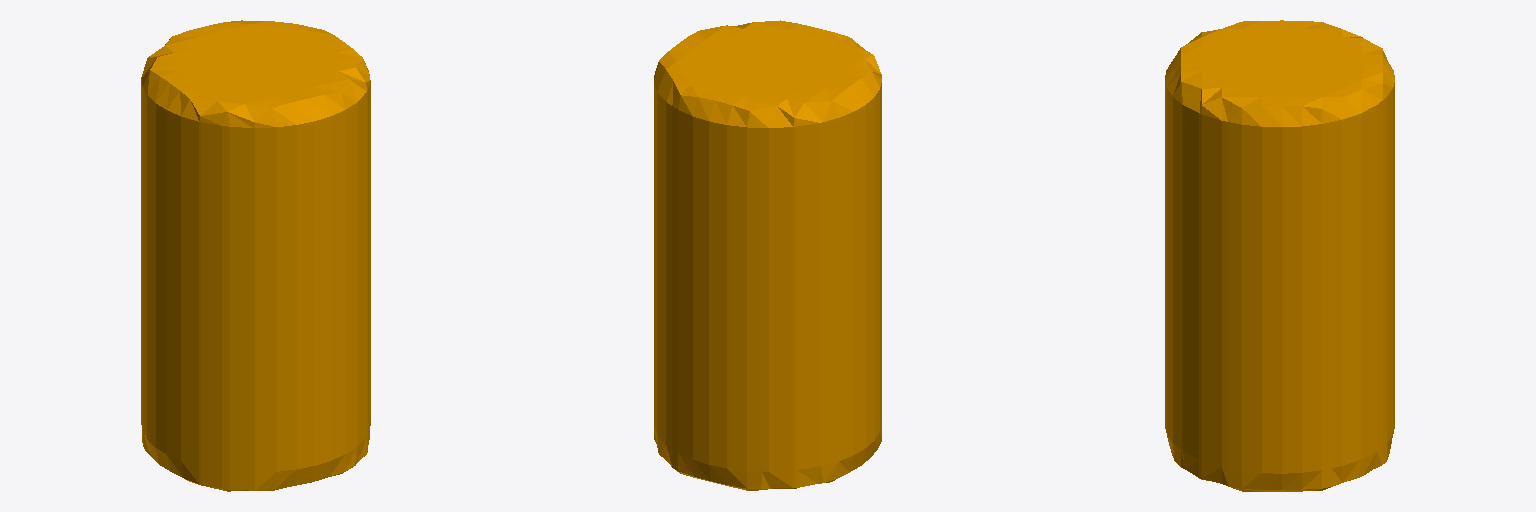
The robot description file, URDF, robot "cylinder_../../meshes/cylinders/cylinder_60.stl":
<?xml version="1.0" encoding="utf-8"?>  <robot name="cylinder_../../meshes/cylinders/cylinder_60.stl">   <link name="cylinder_../../meshes/cylinders/cylinder_60.stl">     <visual>       <geometry>         <mesh filename="../meshes/cylinders/cylinder_60.stl" scale="1 1 1"/>       </geometry>     </visual>     <collision>       <geometry>         <mesh filename="../meshes/cylinders/cylinder_60.stl" scale="1 1 1"/>       </geometry>     </collision>     <inertial>        <origin         xyz="0 0 0"         rpy="0 0 0" />       <mass value="0.26970953548210996"/>       <origin rpy="0 0 0" xyz="0 0 0"/>       <inertia ixx="0.00030361987290000644" ixy="-3.205851289751048e-08" ixz="-3.739499438697699e-09" iyy="0.00030362065655175204" iyz="-6.581783822487051e-09" izz="0.00010942026571742437"/>     </inertial>   </link>  </robot>

--- Facts derived from the render (not from the file) ---
Views: 3 orthographic renders of the robot side by side, from view 1: azimuth 30°, elevation 25°; view 2: azimuth 150°, elevation 25°; view 3: azimuth 270°, elevation 25°.
Model cylinder_../../meshes/cylinders/cylinder_60.stl with 1 links and 0 joints (none), rooted at cylinder_../../meshes/cylinders/cylinder_60.stl, posed all joints at 0.
Links seen in each view (by area): view 1: cylinder_../../meshes/cylinders/cylinder_60.stl; view 2: cylinder_../../meshes/cylinders/cylinder_60.stl; view 3: cylinder_../../meshes/cylinders/cylinder_60.stl.
Boxes of the visible links, x1,y1,x2,y2 form: cylinder_../../meshes/cylinders/cylinder_60.stl: [141, 20, 370, 491]; cylinder_../../meshes/cylinders/cylinder_60.stl: [654, 20, 881, 490]; cylinder_../../meshes/cylinders/cylinder_60.stl: [1165, 20, 1394, 491].
Size in the robot's own frame: 0.0573 by 0.0573 by 0.1059 metres.
1 mesh visuals loaded from 1 distinct referenced files (1 binary STL).